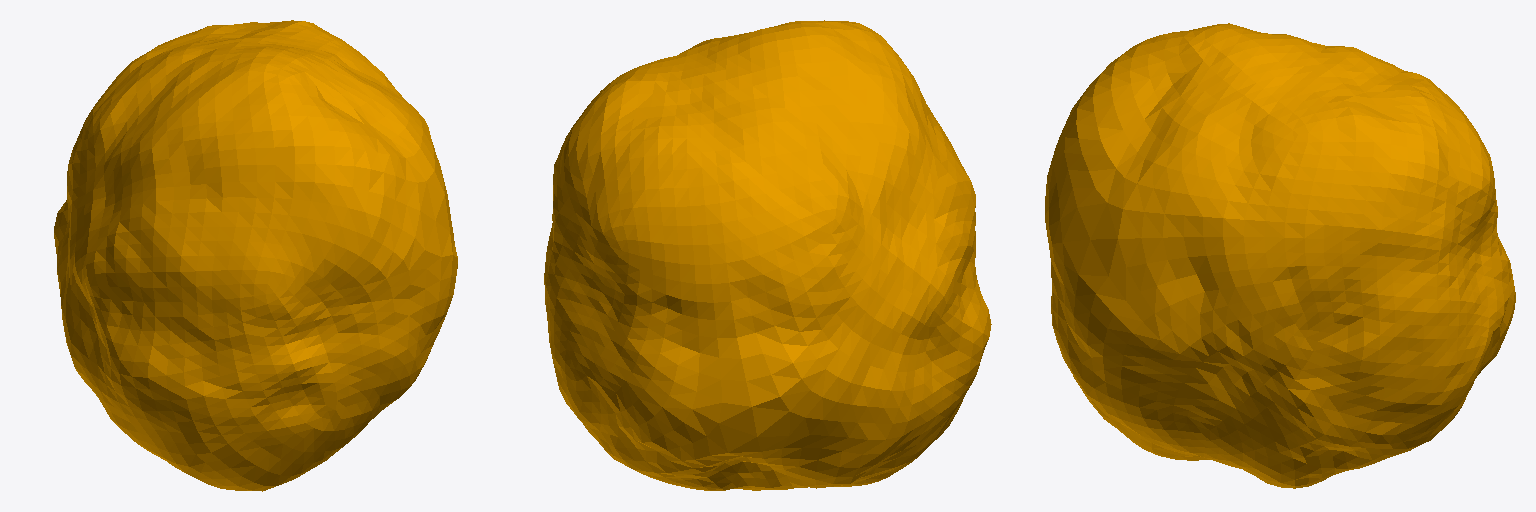
URDF robot description (rock):
<?xml version="1.0" ?>
<robot name="rock">
  <link name="rock">
    <inertial>
      <mass value="0.335"/>
      <origin rpy="0 0 0" xyz="0 0 0"/>
      <inertia ixx="0.000335" ixy="0" ixz="0" iyy="0.000335" iyz="0" izz="0.000335"/>
    </inertial>
    <collision name="rock_collision">
      <origin rpy="0 0 0" xyz="0 0 0"/>
      <geometry>
        <mesh filename="package://rocks/visual/50.dae" scale="1 1 1"/>
      </geometry>
    </collision>
    <visual name="rock_visual">
      <origin rpy="0 0 0" xyz="0 0 0"/>
      <geometry>
        <mesh filename="package://rocks/visual/50.dae" scale="1 1 1"/>
      </geometry>
    </visual>
  </link>
</robot>

--- Facts derived from the render (not from the file) ---
Views: 3 orthographic renders of the robot side by side, from view 1: azimuth 30°, elevation 25°; view 2: azimuth 150°, elevation 25°; view 3: azimuth 270°, elevation 25°.
Robot: rock — 1 links, 0 joints (none); root link rock; default pose: every joint at zero.
Links seen in each view (by area): view 1: rock; view 2: rock; view 3: rock.
Boxes of the visible links, x1,y1,x2,y2 form: rock: [54, 20, 457, 491]; rock: [544, 20, 991, 490]; rock: [1045, 23, 1515, 488].
Bounding box of the posed robot: 0.0856 × 0.0984 × 0.0995 m (x, y, z).
Meshes: 1 distinct files referenced, 1 mesh visuals loaded (1 Collada DAE).